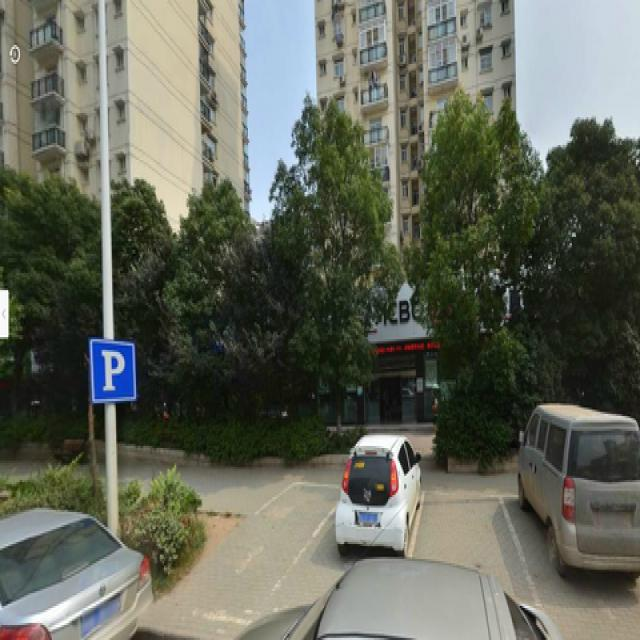cinn: (296, 128, 360, 425), (438, 102, 490, 376)
